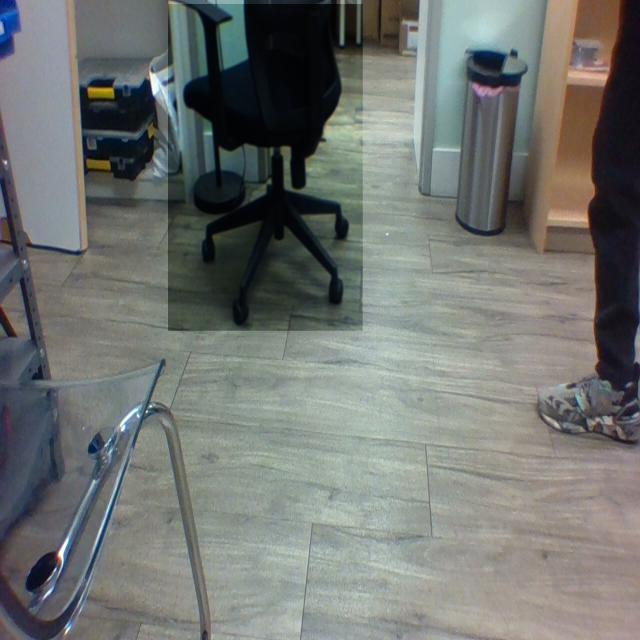chair: (168, 4, 364, 332)
